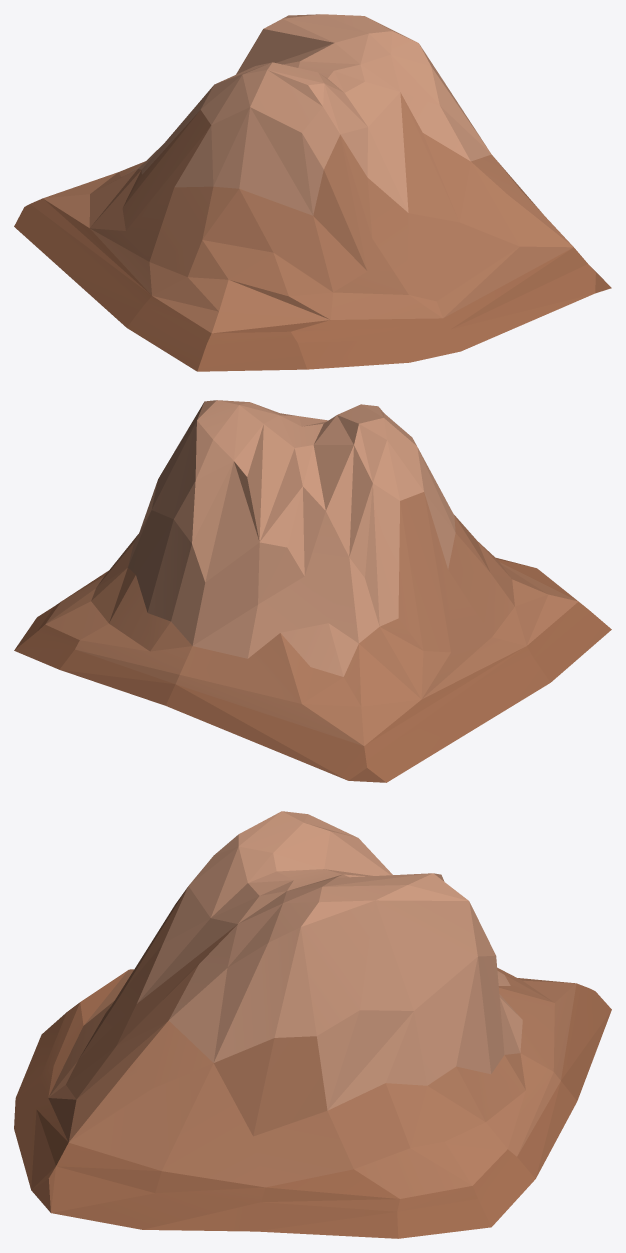
The model's file is mountain_4.fbx.
3 renders of one model, top to bottom at view 1: azimuth 30°, elevation 25°; view 2: azimuth 150°, elevation 25°; view 3: azimuth 270°, elevation 25°, orthographic. The views are drawn at different scales.
Parts seen in each view (by area): view 1: mountain_4; view 2: mountain_4; view 3: mountain_4.
Part boxes in pixels (bbox=[...]): mountain_4: bbox=[14, 14, 611, 371]; mountain_4: bbox=[14, 400, 611, 782]; mountain_4: bbox=[14, 811, 611, 1238].
Bounding box in the file's own units: 1368 × 683 × 1379.
